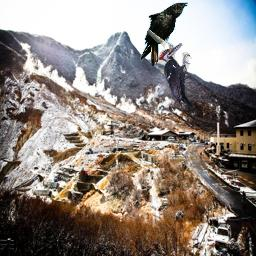Crow: (140, 2, 188, 67)
Woodpecker: (158, 43, 194, 111)
